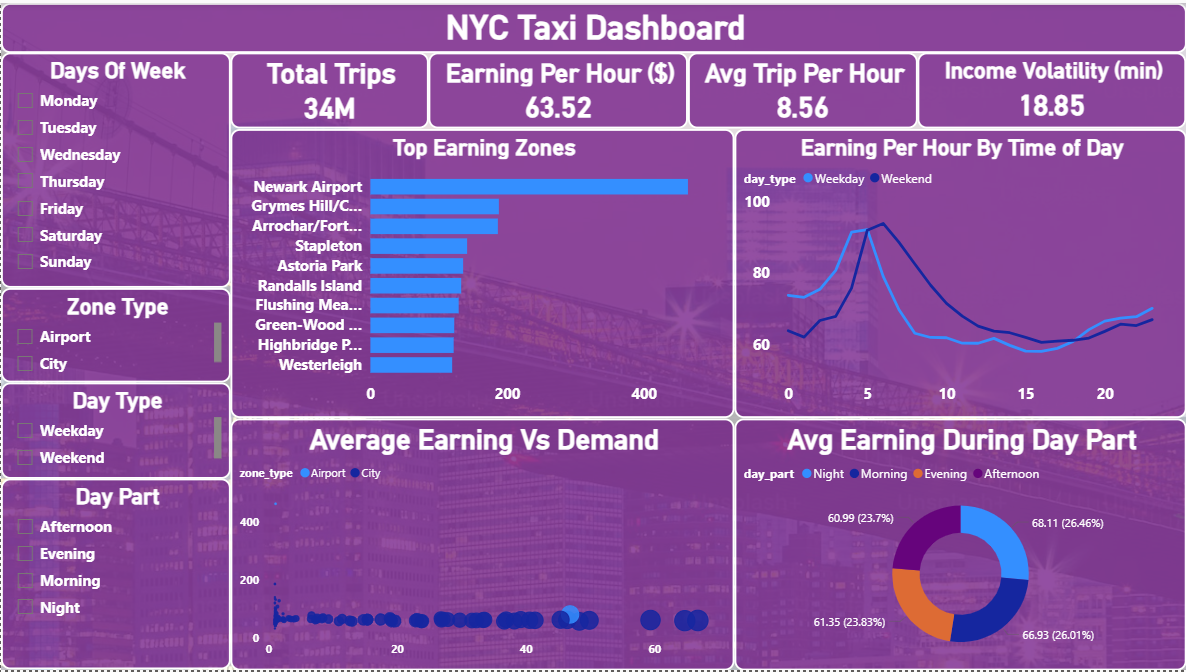

Layout of this report page (visuals, bound fields, positions):
{"tool":"powerbi","page":{"name":"Dashboard","canvas":[1280,720],"ordinal":1},"visuals":[{"type":"card","title":"Total Trips","fields":{"Values":["Sum(analytics driver_efficiency_dashboard.total_trips)"]},"box":[248,54,214,82],"z":0},{"type":"card","title":"Earning Per Hour ($)","fields":{"Values":["analytics driver_efficiency_dashboard.Earning Per Hour"]},"box":[462,54,280,82],"z":1000},{"type":"card","title":"Avg Trip Per Hour","fields":{"Values":["Avg(analytics driver_efficiency_dashboard.avg_trips_per_day_hour)"]},"box":[742,54,248,82],"z":2000},{"type":"card","title":"Income Volatility (min)","fields":{"Values":["Avg(analytics driver_efficiency_dashboard.trip_duration_volatility_min)"]},"box":[990,54,290,82],"z":3000},{"type":"clusteredBarChart","title":"Top Earning Zones","fields":{"Category":["analytics driver_efficiency_dashboard.PUZone"],"Y":["analytics driver_efficiency_dashboard.Earning Per Hour"]},"box":[248,136,544,312],"z":4000},{"type":"lineChart","title":"Earning Per Hour By Time of Day","fields":{"Category":["analytics driver_efficiency_dashboard.pickup_hour"],"Y":["analytics driver_efficiency_dashboard.Earning Per Hour"],"Series":["analytics driver_efficiency_dashboard.day_type"]},"box":[792,136,488,312],"z":5000},{"type":"scatterChart","title":" Average Earning Vs Demand ","fields":{"X":["Avg(analytics driver_efficiency_dashboard.avg_trips_per_day_hour)"],"Y":["analytics driver_efficiency_dashboard.Earning Per Hour"],"Size":["Sum(analytics driver_efficiency_dashboard.total_trips)"],"Series":["analytics driver_efficiency_dashboard.zone_type"],"Category":["analytics driver_efficiency_dashboard.PUZone"]},"box":[248,448,544,272],"z":6000},{"type":"slicer","title":"Days Of Week","fields":{"Values":["analytics driver_efficiency_dashboard.pickup_weekday_name"]},"box":[0,54,248,254],"z":7000},{"type":"slicer","title":"Zone Type","fields":{"Values":["analytics driver_efficiency_dashboard.zone_type"]},"box":[0,308,248,102],"z":9000},{"type":"slicer","title":"Day Type","fields":{"Values":["analytics driver_efficiency_dashboard.day_type"]},"box":[0,410,248,104],"z":10000},{"type":"slicer","title":"Day Part","fields":{"Values":["analytics driver_efficiency_dashboard.day_part"]},"box":[0,514,248,206],"z":10001},{"type":"qnaVisual","title":"NYC Taxi Dashboard","box":[0,0,1280,54],"z":10002},{"type":"donutChart","title":"Avg Earning During Day Part","fields":{"Category":["analytics driver_efficiency_dashboard.day_part"],"Y":["analytics driver_efficiency_dashboard.Earning Per Hour"]},"box":[792,448,488,272],"z":10003}]}

Visuals, with their boxes in screenshot pixels (x1, y1, x2, y2), scaled from the page's 1280x720 canvas onto the 1186x672 screenshot:
"Total Trips" card: box=[230, 50, 428, 127]
"Earning Per Hour ($)" card: box=[428, 50, 688, 127]
"Avg Trip Per Hour" card: box=[688, 50, 917, 127]
"Income Volatility (min)" card: box=[917, 50, 1185, 127]
"Top Earning Zones" clusteredBarChart: box=[230, 127, 734, 418]
"Earning Per Hour By Time of Day" lineChart: box=[734, 127, 1185, 418]
" Average Earning Vs Demand " scatterChart: box=[230, 418, 734, 671]
"Days Of Week" slicer: box=[0, 50, 230, 287]
"Zone Type" slicer: box=[0, 287, 230, 383]
"Day Type" slicer: box=[0, 383, 230, 480]
"Day Part" slicer: box=[0, 480, 230, 671]
"NYC Taxi Dashboard" qnaVisual: box=[0, 0, 1185, 50]
"Avg Earning During Day Part" donutChart: box=[734, 418, 1185, 671]
